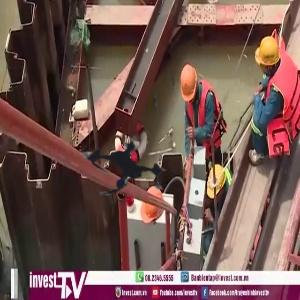drone: (52, 92, 203, 243)
